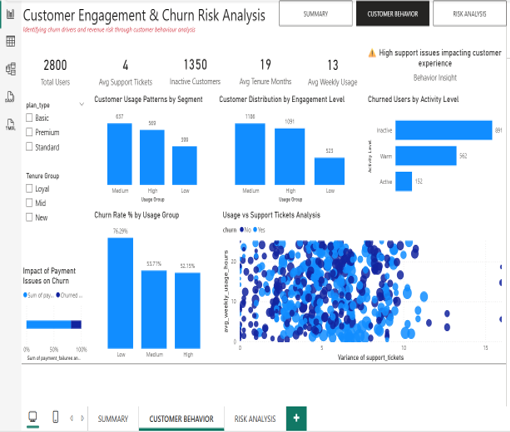

This screenshot's page, from the dashboard's own definition file:
{"tool":"powerbi","page":{"name":"CUSTOMER BEHAVIOR","canvas":[1280,720],"ordinal":1},"visuals":[{"type":"card","fields":{"Values":["Calculations.Total Users"]},"box":[1.4,86.3,177.1,98.6],"z":0},{"type":"card","fields":{"Values":["Calculations.Inactive Customers"]},"box":[370.7,86.9,177,97.4],"z":1000},{"type":"card","fields":{"Values":["Calculations.Avg Support Tickets"]},"box":[186,86.3,177.1,98.6],"z":2000},{"type":"card","fields":{"Values":["Calculations.Behavior Insight"]},"box":[904.3,82.9,375.7,82.9],"z":3000},{"type":"hundredPercentStackedBarChart","title":"Impact of Payment Issues on Churn","fields":{"Y":["Sum(Customers.payment_failures)","Calculations.Churned Users"]},"box":[0,525.7,178.6,194.3],"z":4000},{"type":"slicer","fields":{"Values":["Customers.Tenure Group"]},"box":[0,332.9,178.6,138.6],"z":5000},{"type":"slicer","fields":{"Values":["Customers.plan_type"]},"box":[0,192.9,178.6,128.6],"z":6000},{"type":"clusteredColumnChart","title":"Customer Usage Patterns by Segment","fields":{"Category":["Customers.Usage Group"],"Y":["Calculations.Churned Users"]},"box":[188.6,185.7,318.6,220],"z":7000},{"type":"textbox","box":[0,0,757.1,82.9],"z":8000},{"type":"clusteredColumnChart","title":"Customer Distribution by Engagement Level","fields":{"Category":["Customers.Usage Group"],"Y":["Calculations.Total Users"]},"box":[517.1,185.7,387.1,220],"z":9000},{"type":"clusteredBarChart","fields":{"Category":["Customers.Activity Level"],"Y":["Calculations.Churned Users"]},"box":[910,185.7,365.7,220],"z":10000},{"type":"card","fields":{"Values":["Calculations.Avg Weekly Usage"]},"box":[740,87.1,164.3,97.1],"z":11000},{"type":"card","fields":{"Values":["Calculations.Avg Tenure"]},"box":[555.1,86.9,177,97.4],"z":12000},{"type":"scatterChart","title":"Usage vs Support Tickets Analysis","fields":{"X":["Sum(Customers.support_tickets)"],"Y":["Customers.avg_weekly_usage_hours"],"Size":["Sum(Customers.monthly_fee)"],"Series":["Customers.churn"]},"box":[527.1,414.3,752.9,305.7],"z":13000},{"type":"clusteredColumnChart","fields":{"Category":["Customers.Usage Group"],"Y":["Calculations.Churn Rate %"]},"box":[188.6,414.3,328.6,305.7],"z":14000},{"type":"pageNavigator","box":[680,0,600,50],"z":15000}]}

Visuals, with their boxes on the page's 1280x720 design canvas (x1, y1, x2, y2). These are canvas units, not pixel positions in the 510x432 screenshot, which may show the page scaled, cropped or inside an application window:
card - Calculations.Total Users: bbox=(1, 86, 178, 185)
card - Calculations.Inactive Customers: bbox=(371, 87, 548, 184)
card - Calculations.Avg Support Tickets: bbox=(186, 86, 363, 185)
card - Calculations.Behavior Insight: bbox=(904, 83, 1280, 166)
"Impact of Payment Issues on Churn" hundredPercentStackedBarChart: bbox=(0, 526, 179, 720)
slicer - Customers.Tenure Group: bbox=(0, 333, 179, 472)
slicer - Customers.plan_type: bbox=(0, 193, 179, 322)
"Customer Usage Patterns by Segment" clusteredColumnChart: bbox=(189, 186, 507, 406)
textbox: bbox=(0, 0, 757, 83)
"Customer Distribution by Engagement Level" clusteredColumnChart: bbox=(517, 186, 904, 406)
clusteredBarChart - Customers.Activity Level x Calculations.Churned Users: bbox=(910, 186, 1276, 406)
card - Calculations.Avg Weekly Usage: bbox=(740, 87, 904, 184)
card - Calculations.Avg Tenure: bbox=(555, 87, 732, 184)
"Usage vs Support Tickets Analysis" scatterChart: bbox=(527, 414, 1280, 720)
clusteredColumnChart - Customers.Usage Group x Calculations.Churn Rate %: bbox=(189, 414, 517, 720)
pageNavigator: bbox=(680, 0, 1280, 50)
